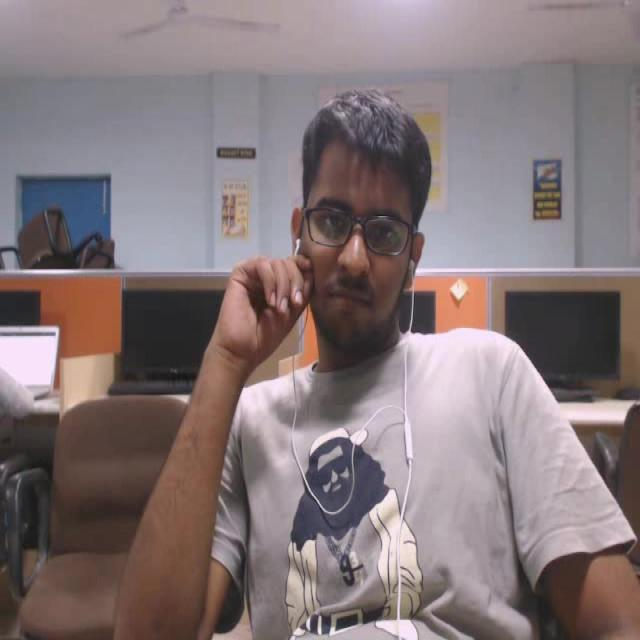Engaged: (258, 64, 450, 365)
